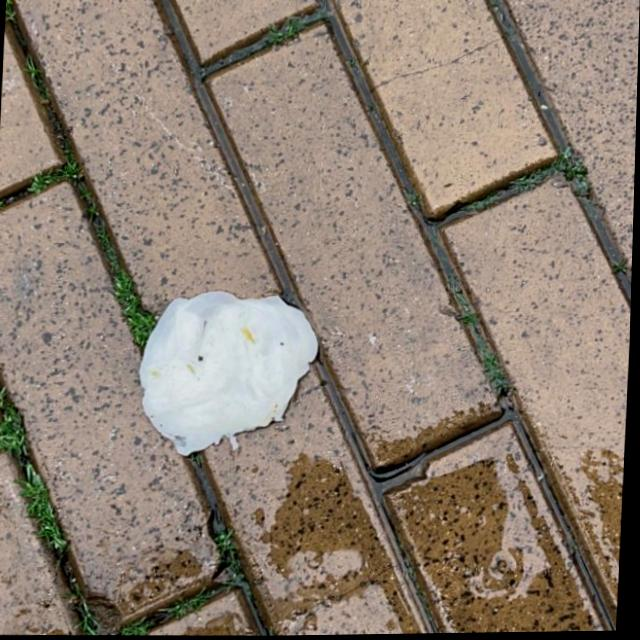Paper: (135, 286, 325, 459)
